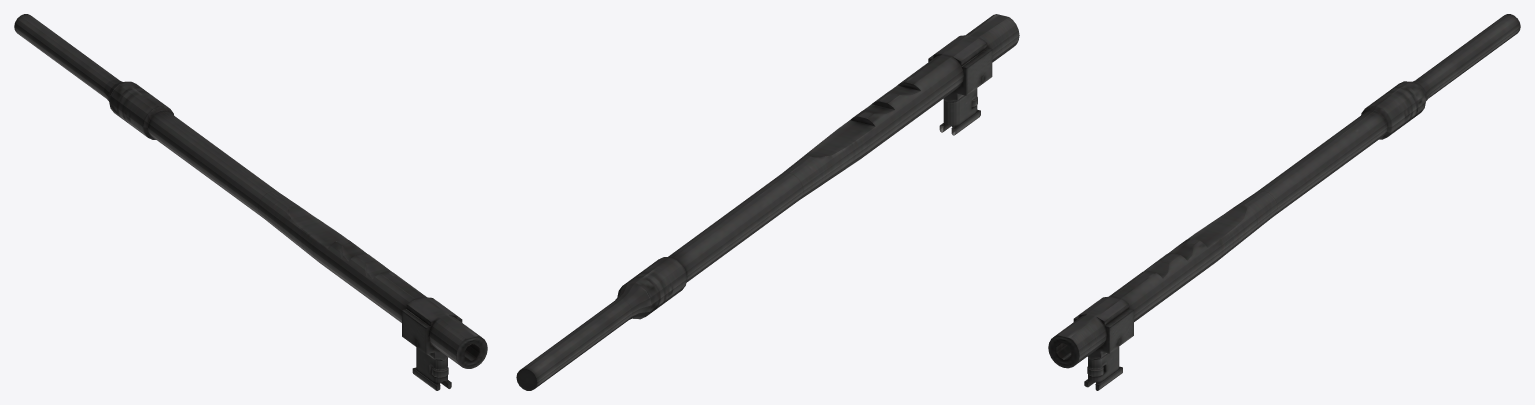
3 views of the same model, side by side, from view 1: azimuth 30°, elevation 25°; view 2: azimuth 150°, elevation 25°; view 3: azimuth 330°, elevation 25° (orthographic). The views are drawn at different scales.
Visible parts, largest first — view 1: TW_661ceb1b9311543c7104149b_PZ_Import; view 2: TW_661ceb1b9311543c7104149b_PZ_Import; view 3: TW_661ceb1b9311543c7104149b_PZ_Import.
Part boxes in pixels (x1,y1,x2,y2): TW_661ceb1b9311543c7104149b_PZ_Import: (14, 14, 487, 390); TW_661ceb1b9311543c7104149b_PZ_Import: (516, 14, 1019, 390); TW_661ceb1b9311543c7104149b_PZ_Import: (1048, 14, 1520, 390).
Size of the model in its own units: 0.0124 by 0.2677 by 0.0248.
Materials: 1 (1 with a texture image).
